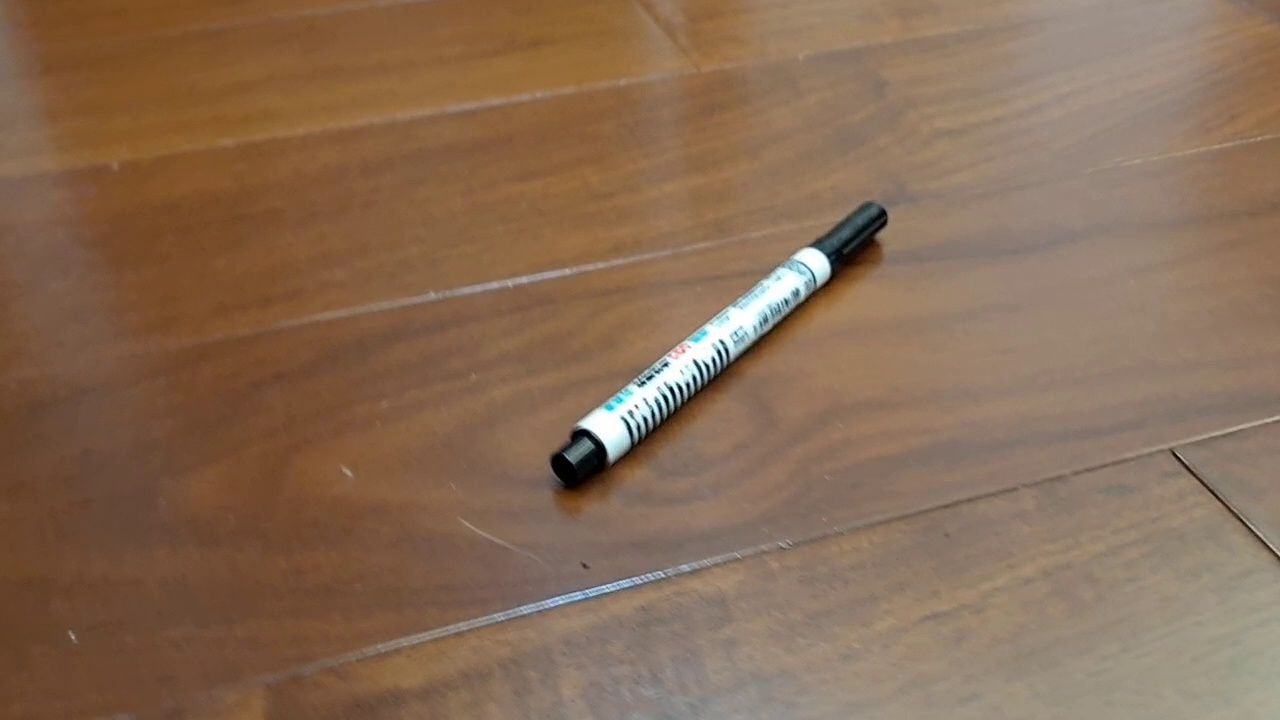pen: (549, 200, 889, 490)
